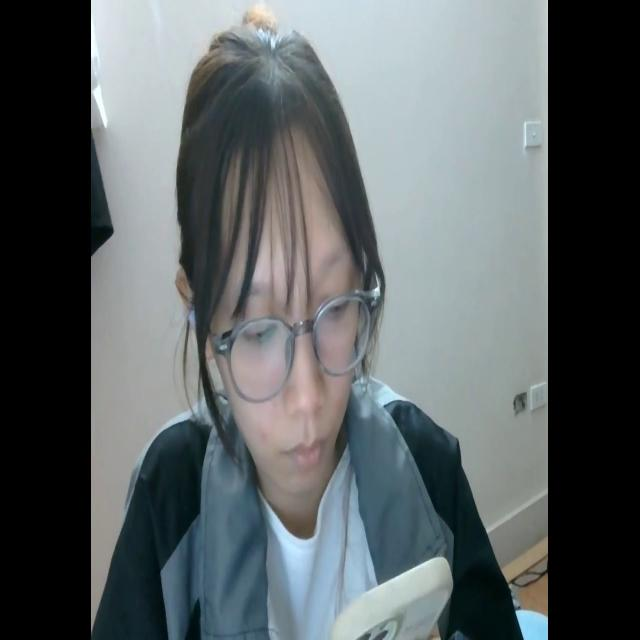phone: (321, 548, 454, 640)
student: (103, 19, 520, 640)
